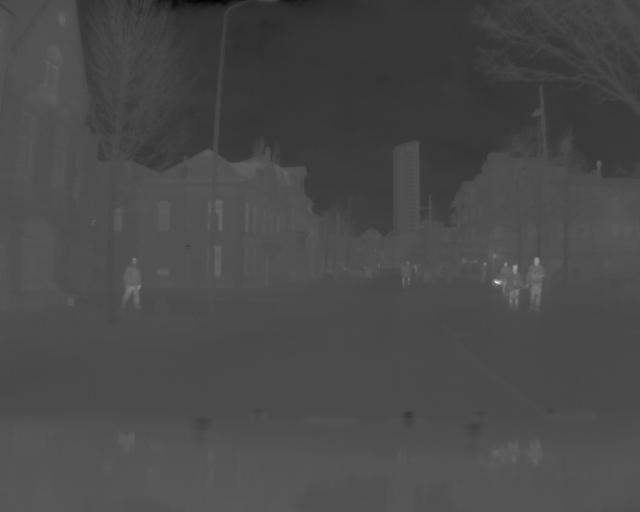person: (523, 251, 548, 320), (120, 252, 144, 319), (504, 264, 522, 317), (401, 257, 415, 293)
